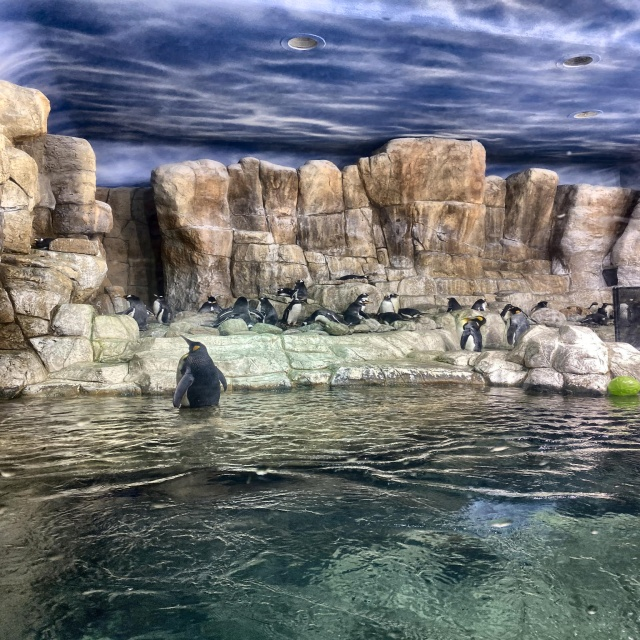penguin: (170, 332, 228, 408), (200, 297, 250, 328), (117, 294, 148, 332), (455, 316, 486, 352), (502, 308, 529, 349), (374, 310, 425, 327), (254, 296, 279, 326), (584, 299, 612, 325), (343, 299, 372, 324), (282, 299, 307, 325), (152, 293, 172, 325), (199, 295, 223, 315), (618, 298, 636, 320), (290, 279, 308, 300), (378, 295, 396, 315), (33, 238, 60, 249), (532, 300, 550, 316), (445, 297, 461, 312), (471, 299, 489, 312), (337, 275, 374, 281), (390, 293, 400, 315), (275, 288, 296, 298), (356, 293, 372, 300)
